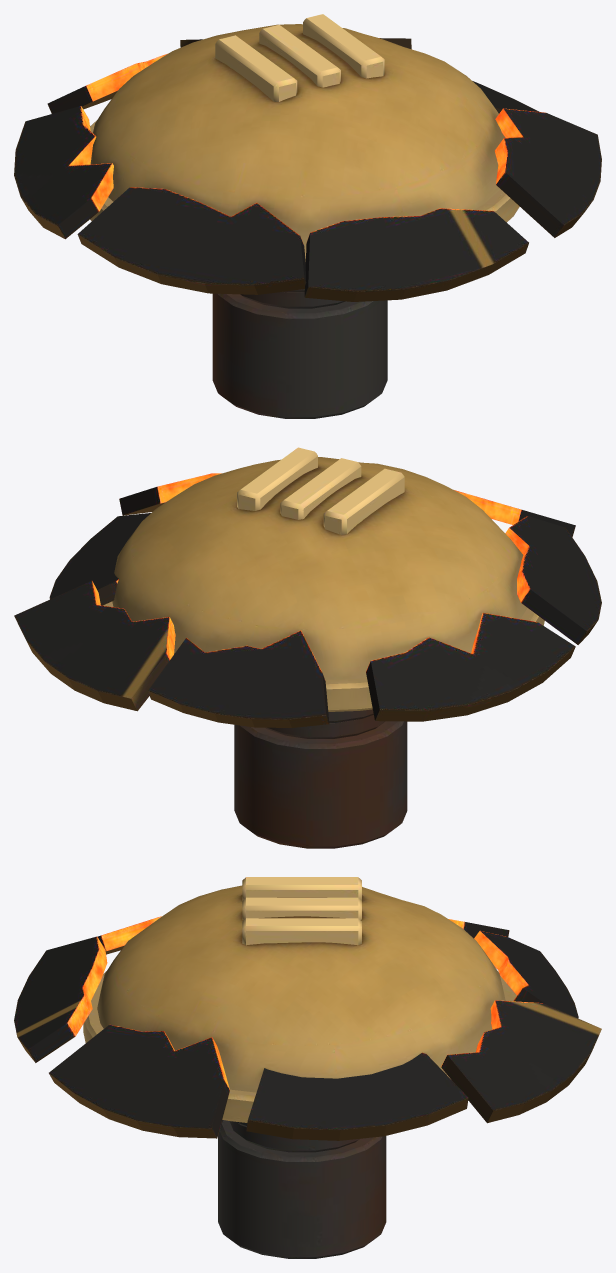
The model's file is RivetHead.glb.
3 renders of one model, top to bottom at view 1: azimuth 30°, elevation 25°; view 2: azimuth 150°, elevation 25°; view 3: azimuth 270°, elevation 25°, orthographic. The views are drawn at different scales.
Visible parts, largest first — view 1: Head, Plate; view 2: Head, Plate; view 3: Head, Plate.
Boxes of the visible parts, bbox=[...] form: Head: bbox=[90, 14, 519, 418]; Plate: bbox=[14, 38, 601, 301]; Head: bbox=[103, 447, 544, 848]; Plate: bbox=[14, 473, 601, 727]; Head: bbox=[83, 877, 516, 1258]; Plate: bbox=[14, 916, 601, 1140].
Size of the model in its own units: 1.49 by 0.955 by 1.57.
Materials: 2 (2 with a texture image).
